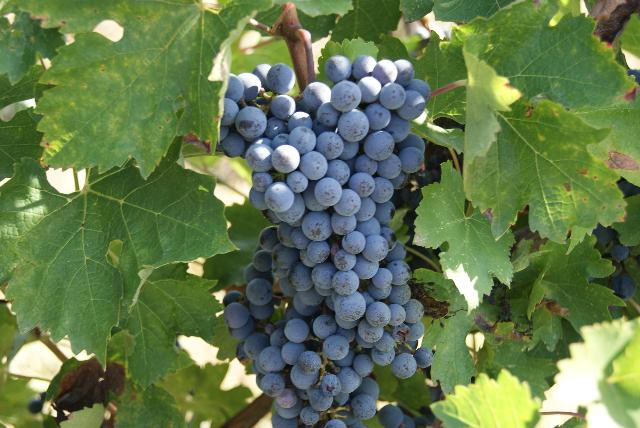grapes: (220, 56, 432, 378)
